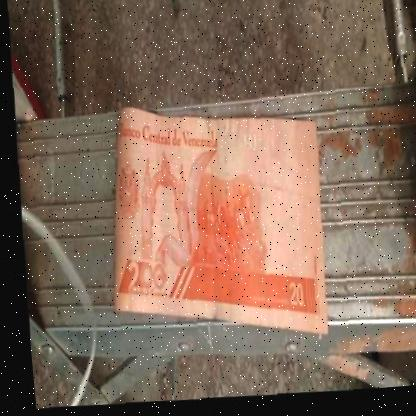twenty-back-vef: (93, 95, 330, 354)
